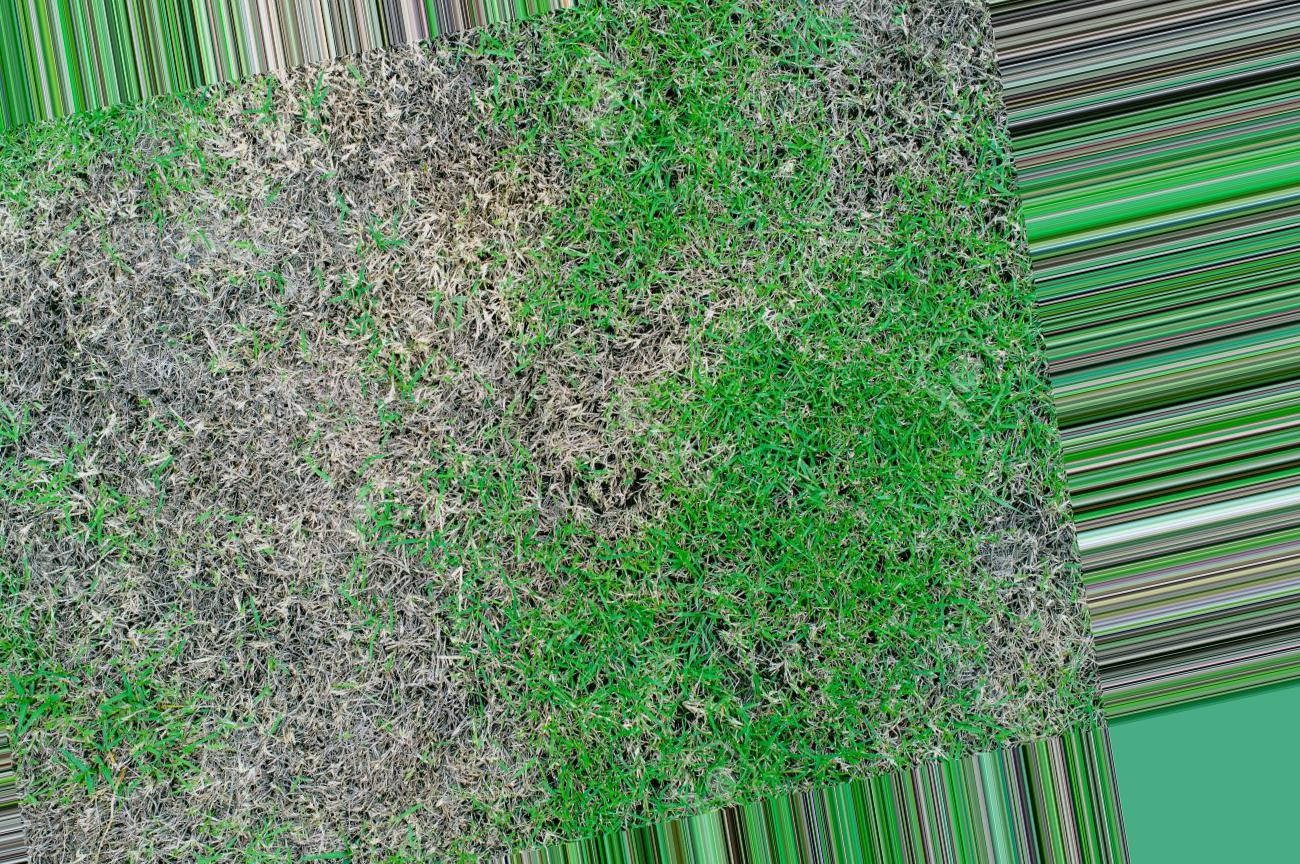patch: (93, 135, 510, 763)
